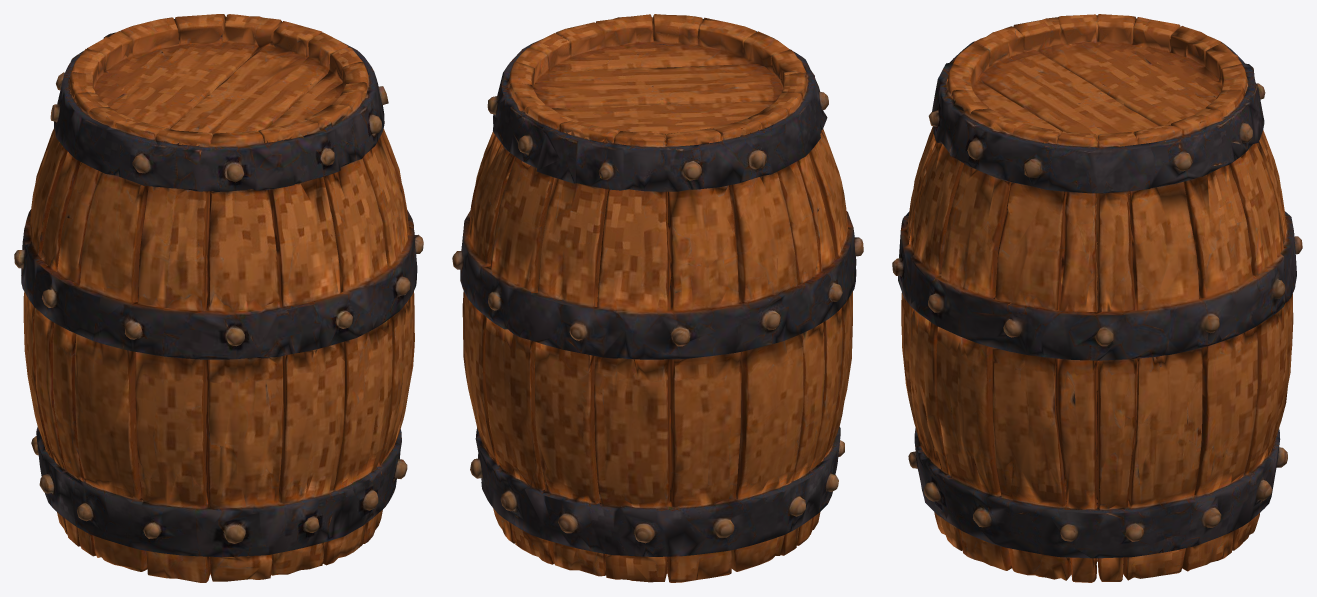
File: wooden_barrel_optimized.glb
The picture shows the model from 3 angles, left to right: view 1: azimuth 30°, elevation 25°; view 2: azimuth 150°, elevation 25°; view 3: azimuth 270°, elevation 25°; orthographic projection.
Size of the model in its own units: 1.62 by 1.9 by 1.61.
1 material, 1 textured.
